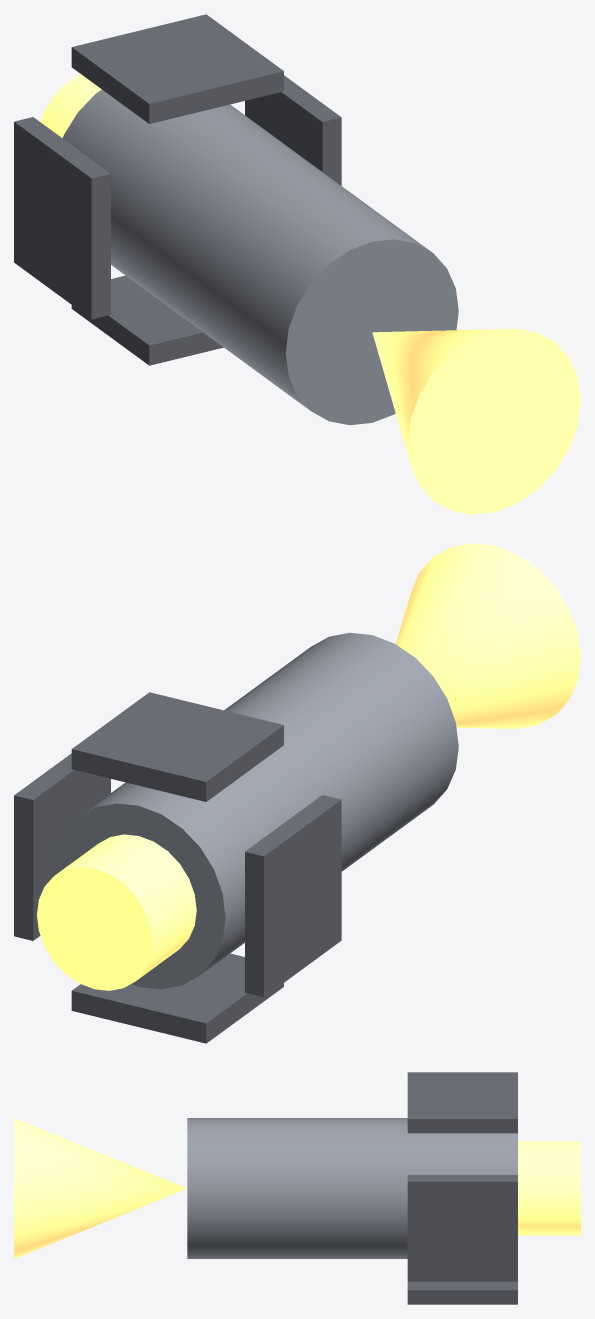
The model's file is rocket.glb.
The picture shows the model from 3 angles, top to bottom: view 1: azimuth 30°, elevation 25°; view 2: azimuth 150°, elevation 25°; view 3: azimuth 270°, elevation 25°; orthographic projection. The views are drawn at different scales.
Visible parts, largest first — view 1: Cylinder, Cone, Cube.002, Cube.001, Cube.003, Cube, Cylinder.001; view 2: Cylinder, Cone, Cylinder.001, Cube.002, Cube.001, Cube.003, Cube; view 3: Cylinder, Cone, Cube, Cube.001, Cylinder.001, Cube.003.
Boxes of the visible parts, bbox=[...] form: Cylinder: bbox=[62, 89, 458, 425]; Cone: bbox=[372, 328, 580, 514]; Cube.002: bbox=[14, 117, 110, 319]; Cube.001: bbox=[71, 14, 283, 123]; Cube.003: bbox=[71, 275, 223, 365]; Cube: bbox=[245, 75, 341, 185]; Cylinder.001: bbox=[41, 74, 101, 137]; Cylinder: bbox=[52, 632, 458, 989]; Cone: bbox=[396, 543, 580, 729]; Cylinder.001: bbox=[37, 834, 196, 990]; Cube.002: bbox=[245, 795, 341, 997]; Cube.001: bbox=[71, 692, 283, 801]; Cube.003: bbox=[71, 953, 283, 1043]; Cube: bbox=[14, 753, 110, 940]; Cylinder: bbox=[187, 1118, 517, 1258]; Cone: bbox=[14, 1118, 186, 1258]; Cube: bbox=[407, 1175, 517, 1281]; Cube.001: bbox=[407, 1072, 517, 1133]; Cylinder.001: bbox=[518, 1141, 580, 1235]; Cube.003: bbox=[407, 1281, 517, 1304].
Bounding box in the file's own units: 0.26 × 0.26 × 0.72.
